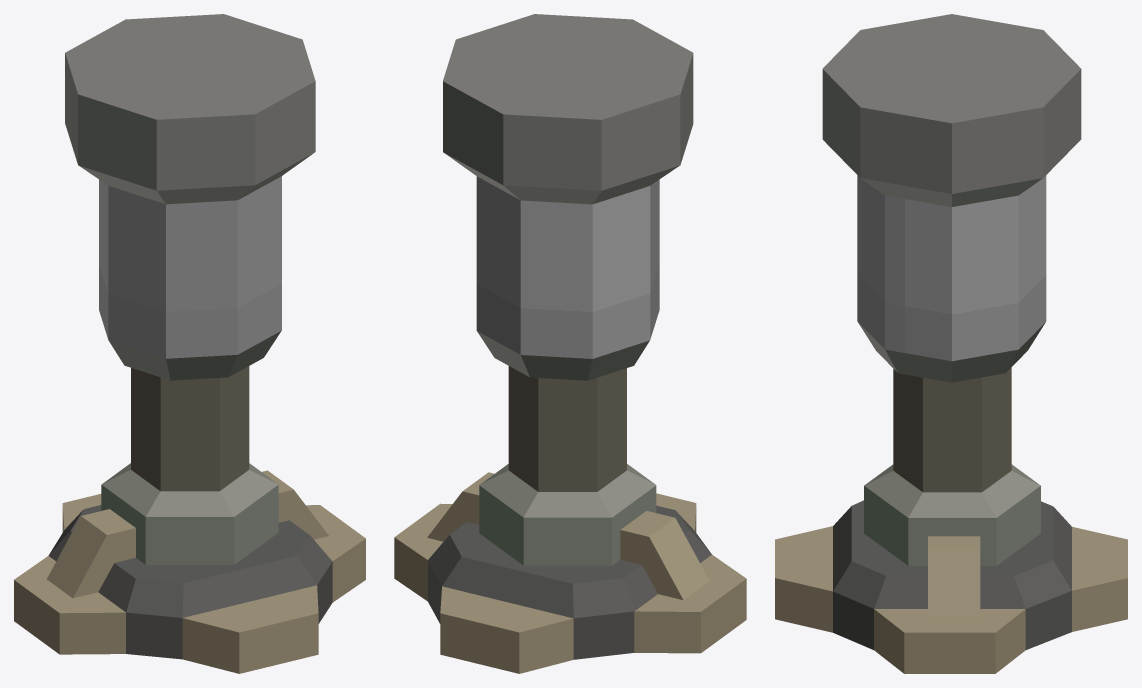
Rendered from entity103860.glb.
3 renders of one model, left to right at view 1: azimuth 30°, elevation 25°; view 2: azimuth 150°, elevation 25°; view 3: azimuth 270°, elevation 25°, orthographic.
Parts seen in each view (by area): view 1: node_SM_Bld_Pod_Support_03 (15), node_SM_Bld_Pod_Support_03_Leg_01; view 2: node_SM_Bld_Pod_Support_03 (15), node_SM_Bld_Pod_Support_03_Leg_01; view 3: node_SM_Bld_Pod_Support_03 (15), node_SM_Bld_Pod_Support_03_Leg_01.
Part boxes in pixels (<box>): node_SM_Bld_Pod_Support_03 (15): <box>65,14,315,380</box>; node_SM_Bld_Pod_Support_03_Leg_01: <box>14,366,365,673</box>; node_SM_Bld_Pod_Support_03 (15): <box>443,14,693,380</box>; node_SM_Bld_Pod_Support_03_Leg_01: <box>394,366,746,673</box>; node_SM_Bld_Pod_Support_03 (15): <box>822,14,1081,382</box>; node_SM_Bld_Pod_Support_03_Leg_01: <box>775,367,1127,673</box>.
Size of the model in its own units: 1.69 by 2.82 by 1.69.
1 material, 1 textured.
